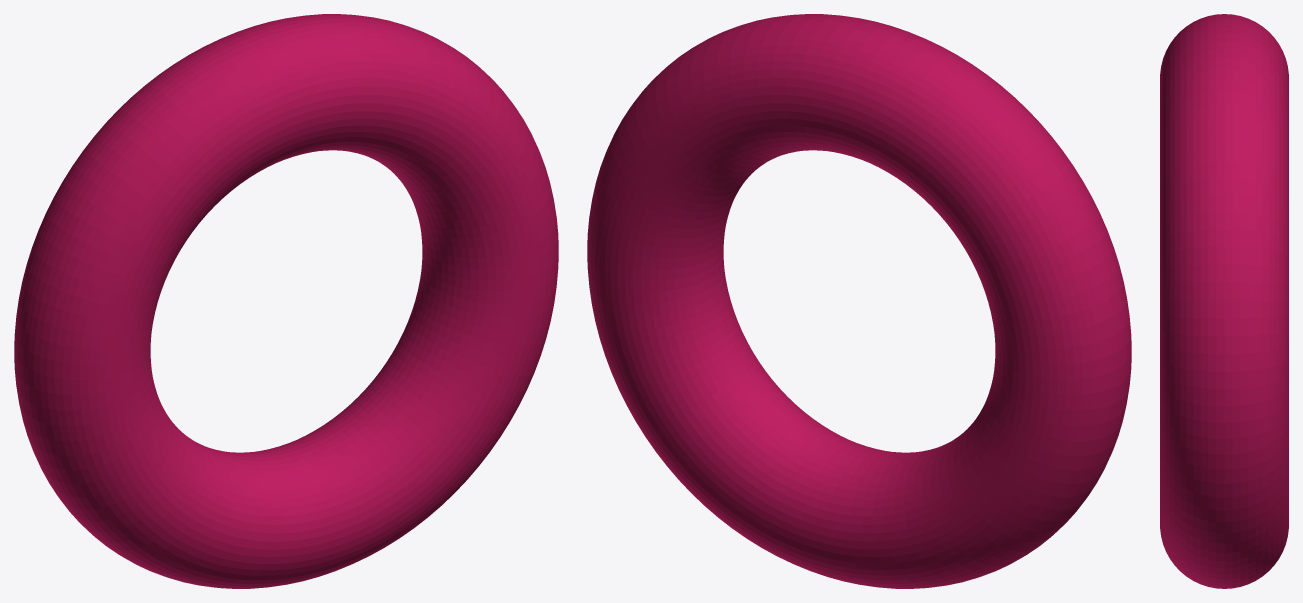
3 renders of one model, left to right at view 1: azimuth 30°, elevation 25°; view 2: azimuth 150°, elevation 25°; view 3: azimuth 270°, elevation 25°, orthographic. The views are drawn at different scales.
Parts seen in each view (by area): view 1: world; view 2: world; view 3: world.
Boxes of the visible parts, x1,y1,x2,y2 form: world: (14, 14, 558, 588); world: (587, 14, 1131, 588); world: (1160, 14, 1288, 588).
Size of the model in its own units: 32.67 by 32.67 by 7.32.
